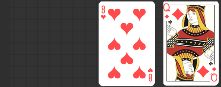10H: (147, 67, 154, 83)
